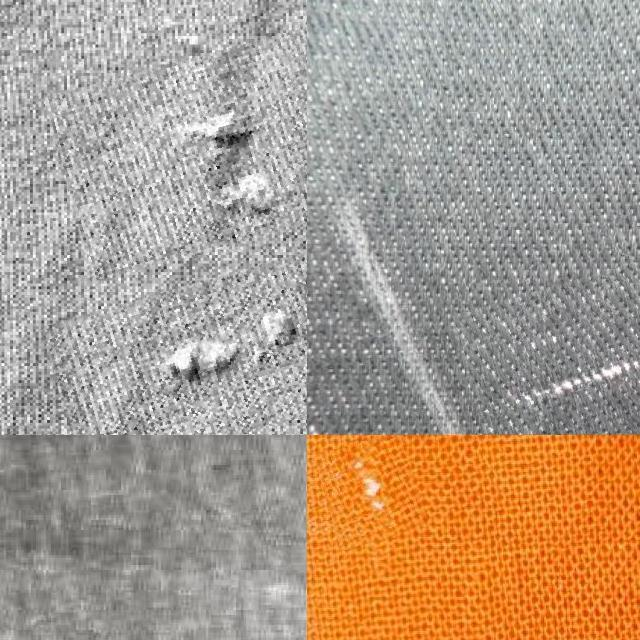Thread_other: (52, 33, 307, 262), (48, 256, 307, 435), (457, 220, 640, 435)
seam: (320, 436, 424, 546)
